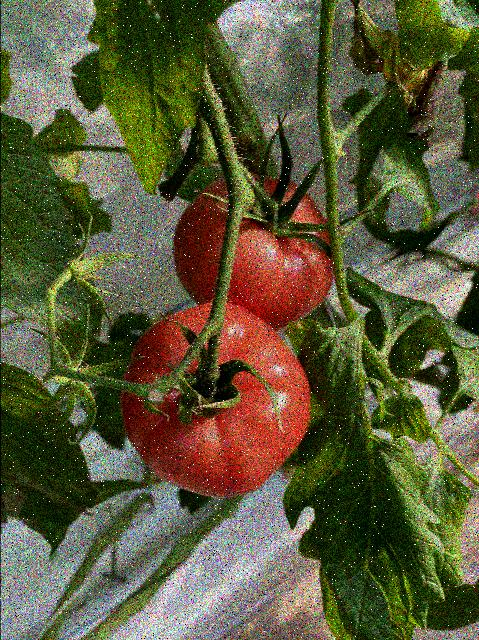b_fully_ripened: (120, 301, 309, 497), (172, 175, 333, 332)
